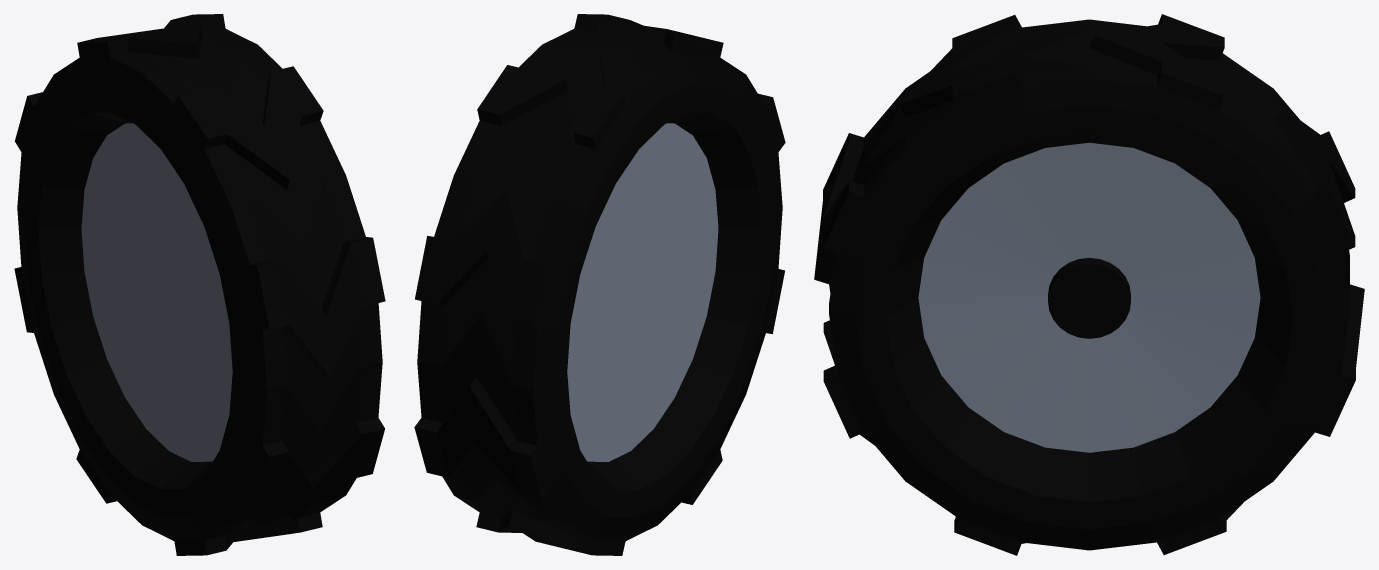
Rendered from wheel.fbx.
The picture shows the model from 3 angles, left to right: view 1: azimuth 30°, elevation 25°; view 2: azimuth 150°, elevation 25°; view 3: azimuth 270°, elevation 25°; orthographic projection. The views are drawn at different scales.
Visible parts, largest first — view 1: Wheel; view 2: Wheel; view 3: Wheel.
Boxes of the visible parts, <box> form: Wheel: <box>14,14,385,555</box>; Wheel: <box>414,14,785,555</box>; Wheel: <box>814,14,1364,555</box>.
Bounding box in the file's own units: 19.73 × 69.93 × 69.93.
